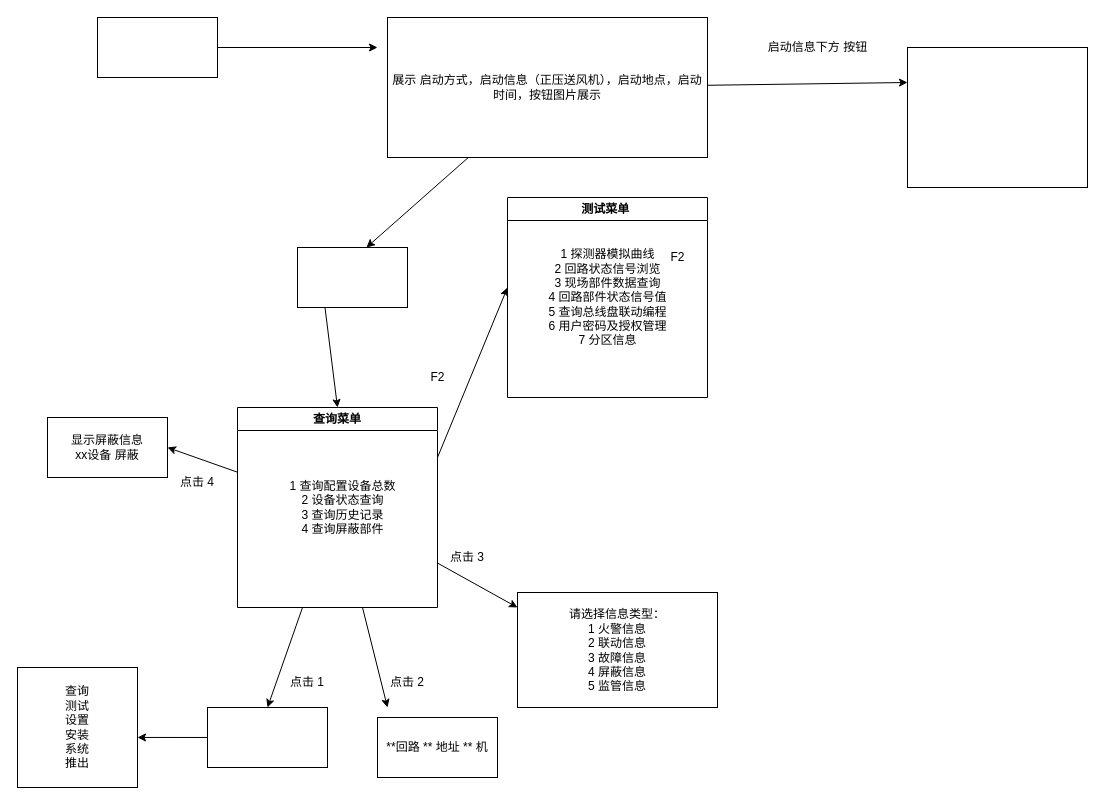
This 1105x805 diagram has some shape labels left out. Here are the shapes that lost their labels. From the top down, the centre of each, then its label:
(157,47): 进去
(997,117): F1 查火警 F2 查启动 F3 查故障 F4 查监管 F5 查屏蔽 F6 查反馈
(352,277): 点击功能按钮
(267,737): *** 回路 ** 机
